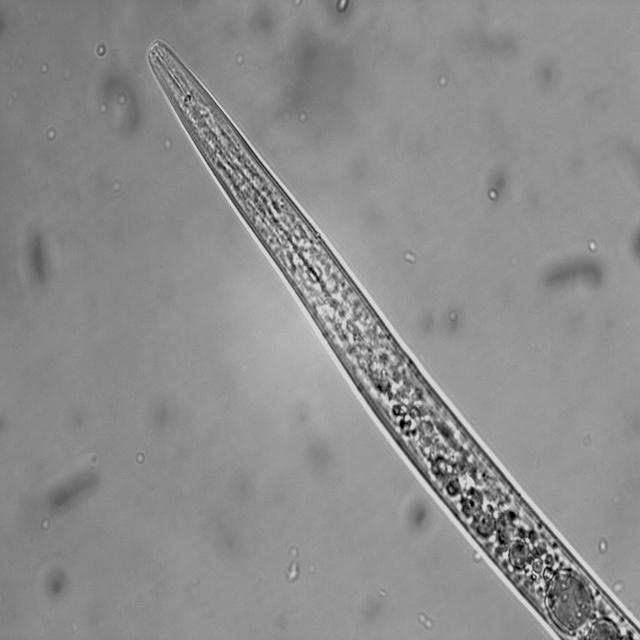Meloidogyne: (143, 38, 640, 640)
